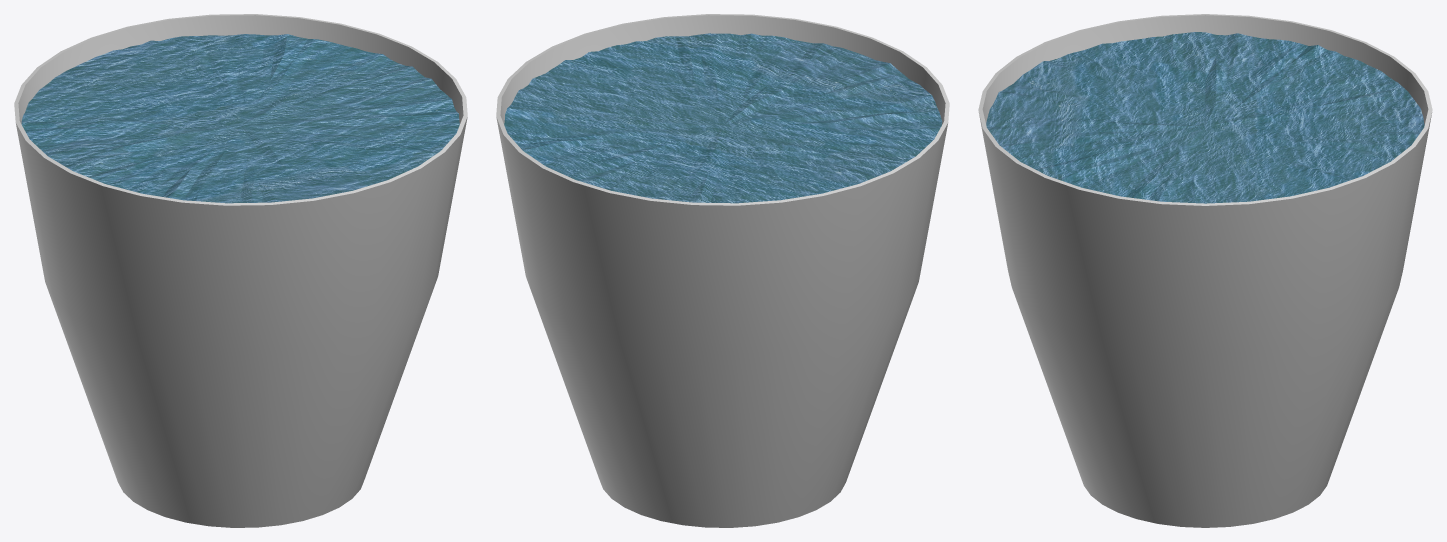
The model's file is Bucket_Instrument_Model.fbx.
3 views of the same model, side by side, from view 1: azimuth 30°, elevation 25°; view 2: azimuth 150°, elevation 25°; view 3: azimuth 270°, elevation 25° (orthographic).
Visible parts, largest first — view 1: Circle, Circle.001; view 2: Circle, Circle.001; view 3: Circle, Circle.001.
Boxes of the visible parts, x1=… form: Circle: x1=14, y1=14, x2=467, y2=527; Circle.001: x1=21, y1=34, x2=459, y2=203; Circle: x1=496, y1=14, x2=949, y2=527; Circle.001: x1=504, y1=33, x2=942, y2=203; Circle: x1=978, y1=14, x2=1432, y2=527; Circle.001: x1=986, y1=32, x2=1424, y2=203.
Bounding box in the file's own units: 211 × 188 × 211.
